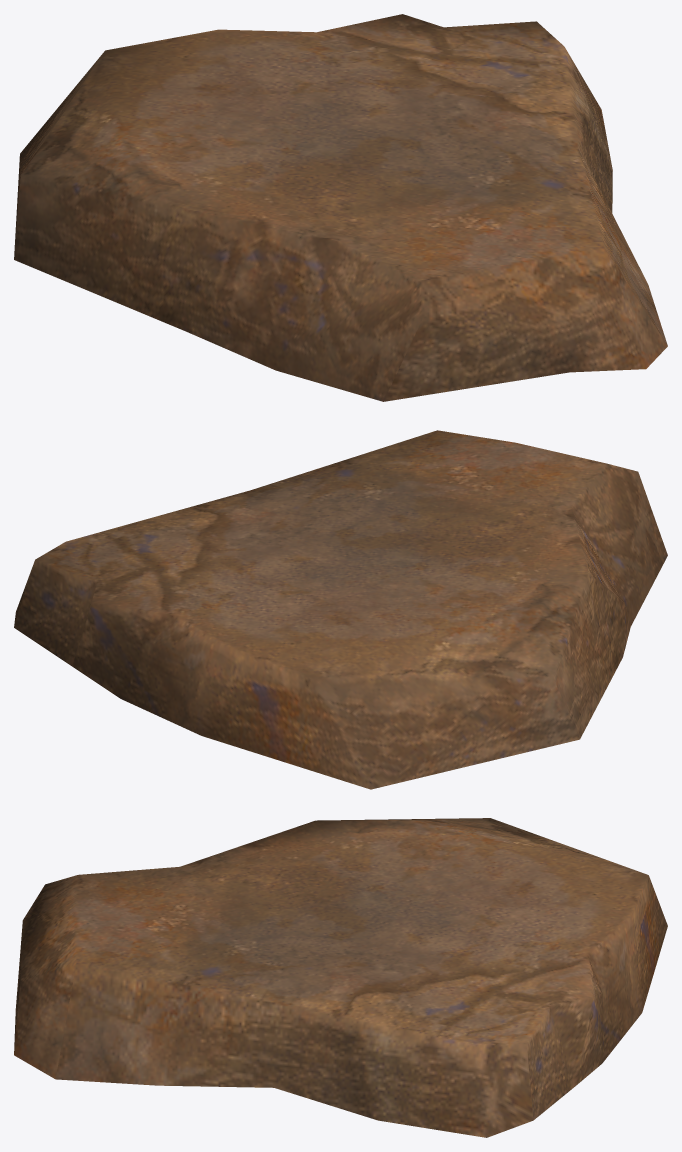
The model's file is Rock_Shales_03_L1.fbx.
The picture shows the model from 3 angles, top to bottom: view 1: azimuth 30°, elevation 25°; view 2: azimuth 150°, elevation 25°; view 3: azimuth 270°, elevation 25°; orthographic projection. The views are drawn at different scales.
Parts seen in each view (by area): view 1: polySurface241; view 2: polySurface241; view 3: polySurface241.
Boxes of the visible parts, box(x1,y1,x2,y2) form: polySurface241: box(14, 14, 667, 401); polySurface241: box(14, 430, 667, 789); polySurface241: box(14, 818, 667, 1137).
Size of the model in its own units: 82.42 by 15.64 by 86.73.
